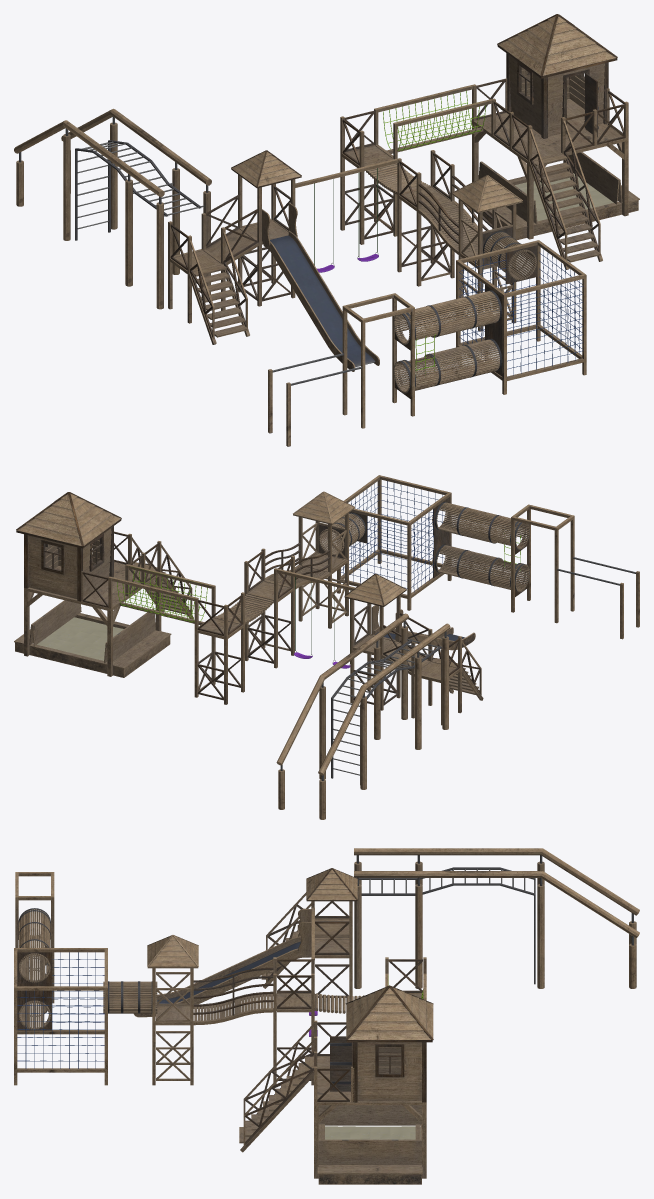
3 renders of one model, top to bottom at view 1: azimuth 30°, elevation 25°; view 2: azimuth 150°, elevation 25°; view 3: azimuth 270°, elevation 25°, orthographic. The views are drawn at different scales.
Visible parts, largest first — view 1: Tower_1_LP_6, Slide_4_LP_3, House_LP_2, 2_Bars_LP_1, Drum_LP_9, Base_house_LP_14, 1_Drum_2_LP_0, Slide_LP_8, Sandbox_LP_7, 3_Stairs_LP_13, 3_Tower_2_LP_12, 1_horizonta_bar_LP_10 (+3 smaller); view 2: 2_Bars_LP_1, Slide_4_LP_3, House_LP_2, Sandbox_LP_7, Tower_1_LP_6, Drum_LP_9, 1_Drum_2_LP_0, Base_house_LP_14, 3_Tower_2_LP_12, 1_horizonta_bar_LP_10, 1_Rope_LP_5, 3_Stairs_LP_13 (+3 smaller); view 3: House_LP_2, 2_Bars_LP_1, Sandbox_LP_7, Slide_4_LP_3, 1_Drum_2_LP_0, Tower_1_LP_6, 3_Tower_2_LP_12, Drum_LP_9, Slide_LP_8, 3_Stairs_LP_13, Base_house_LP_14, 2_Drum_2_LP_11 (+1 smaller).
Part boxes in pixels (<box>): Tower_1_LP_6: <box>168,150,301,344</box>; Slide_4_LP_3: <box>340,108,492,286</box>; House_LP_2: <box>497,14,617,138</box>; 2_Bars_LP_1: <box>14,108,211,309</box>; Drum_LP_9: <box>393,284,502,398</box>; Base_house_LP_14: <box>472,78,628,239</box>; 1_Drum_2_LP_0: <box>456,240,586,394</box>; Slide_LP_8: <box>262,202,379,371</box>; Sandbox_LP_7: <box>471,152,639,240</box>; 3_Stairs_LP_13: <box>529,120,602,269</box>; 3_Tower_2_LP_12: <box>452,175,522,331</box>; 1_horizonta_bar_LP_10: <box>268,293,414,446</box>; 2_Bars_LP_1: <box>276,613,450,819</box>; Slide_4_LP_3: <box>194,543,330,704</box>; House_LP_2: <box>16,492,121,601</box>; Sandbox_LP_7: <box>14,600,171,677</box>; Tower_1_LP_6: <box>344,573,483,725</box>; Drum_LP_9: <box>432,497,529,596</box>; 1_Drum_2_LP_0: <box>337,475,451,610</box>; Base_house_LP_14: <box>24,531,161,676</box>; 3_Tower_2_LP_12: <box>293,491,354,628</box>; 1_horizonta_bar_LP_10: <box>511,504,639,639</box>; 1_Rope_LP_5: <box>111,564,212,625</box>; 3_Stairs_LP_13: <box>132,537,193,619</box>; House_LP_2: <box>330,985,433,1102</box>; 2_Bars_LP_1: <box>354,848,639,988</box>; Sandbox_LP_7: <box>317,1105,422,1184</box>; Slide_4_LP_3: <box>193,957,426,1085</box>; 1_Drum_2_LP_0: <box>14,948,107,1085</box>; Tower_1_LP_6: <box>261,868,357,1001</box>; 3_Tower_2_LP_12: <box>147,935,198,1085</box>; Drum_LP_9: <box>17,908,52,1030</box>; Slide_LP_8: <box>134,908,311,1017</box>; 3_Stairs_LP_13: <box>239,1023,313,1152</box>; Base_house_LP_14: <box>314,1020,426,1178</box>; 2_Drum_2_LP_11: <box>103,981,157,1013</box>.
Size of the model in its own units: 12219 by 4257 by 13338.
Materials: 10 (10 with a texture image).
